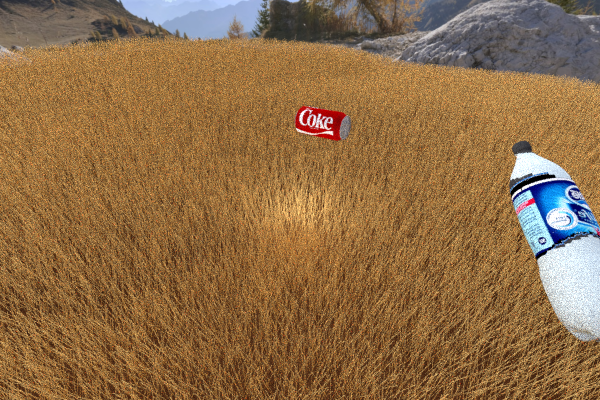bottle: (509, 140, 600, 343)
can: (294, 105, 350, 140)
